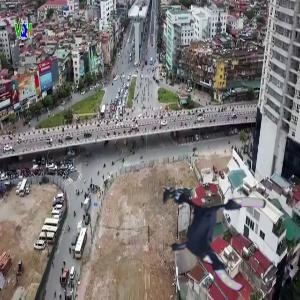drone: (163, 189, 267, 293)
